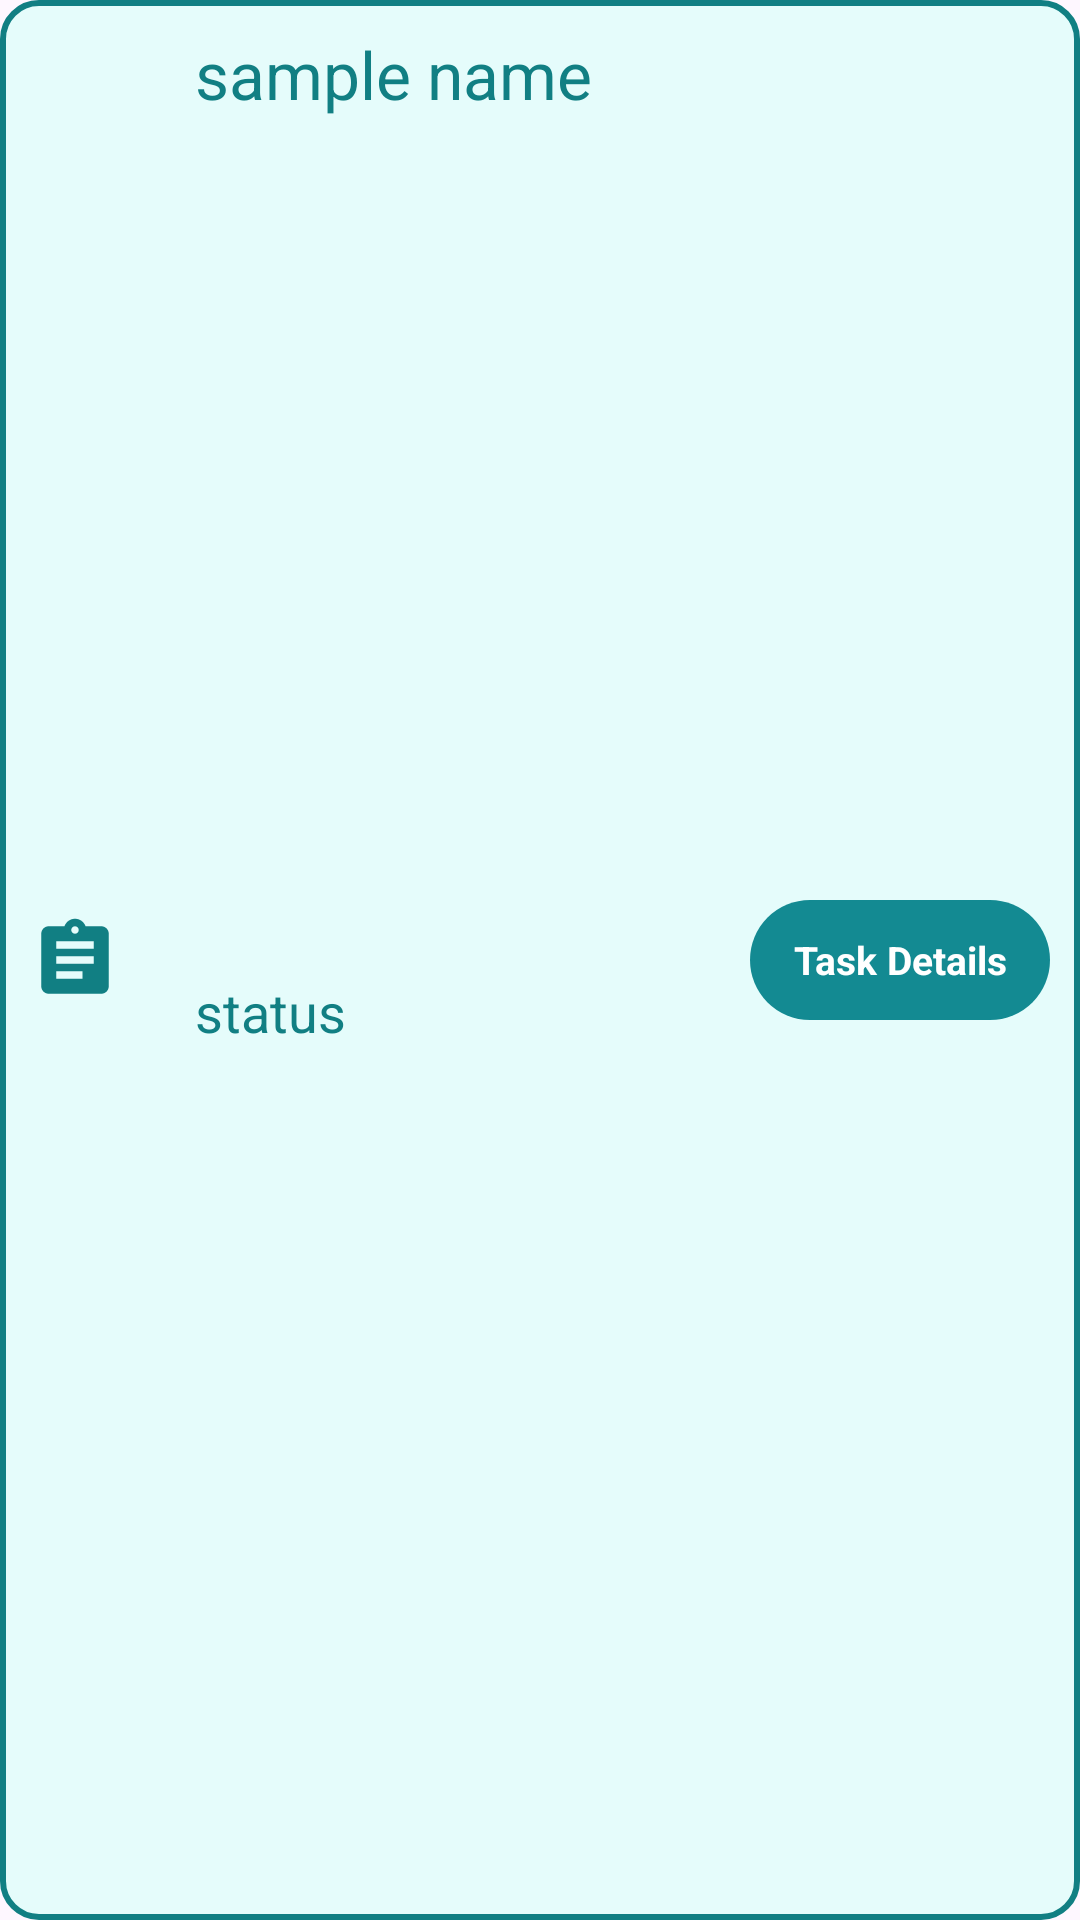

Icon bounding boxes for this 1080×1920 phone screenshot, format (left=x1, top=y1, right=x2, bottom=y2):
task: (left=41, top=918, right=109, bottom=994)
